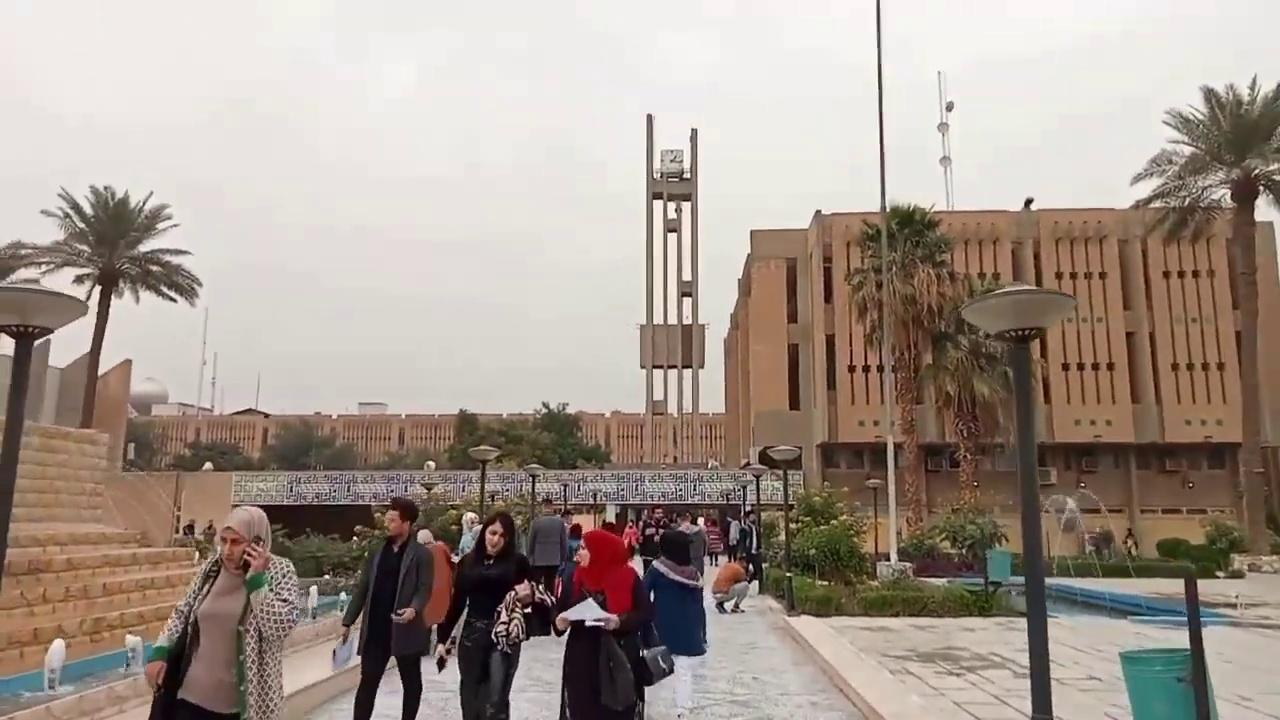car: (702, 517, 723, 553)
fountain: (1, 582, 366, 719), (995, 482, 1237, 629), (278, 578, 363, 716)
person: (144, 504, 299, 719), (434, 510, 535, 719), (339, 496, 433, 719), (551, 527, 650, 719), (642, 529, 708, 718), (457, 511, 482, 558), (1122, 527, 1138, 560), (201, 518, 217, 545), (181, 519, 195, 543)
tree: (1127, 71, 1279, 553), (841, 200, 1036, 548), (0, 182, 202, 428), (918, 269, 1044, 510), (443, 399, 611, 470), (774, 481, 873, 586), (258, 419, 340, 470), (442, 406, 485, 468)
